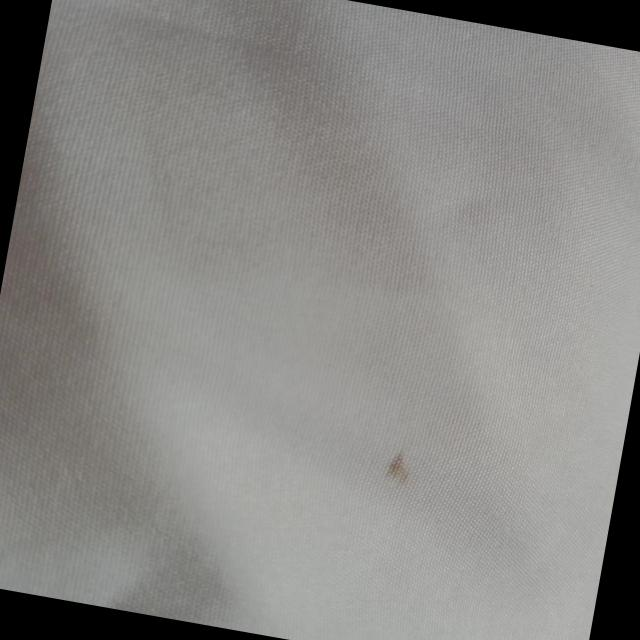stain: (371, 438, 432, 497)
